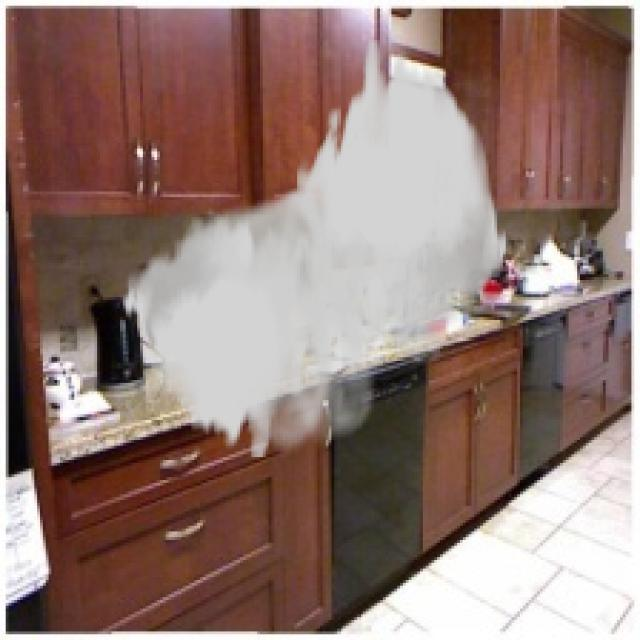Smoke: (120, 40, 509, 460)
